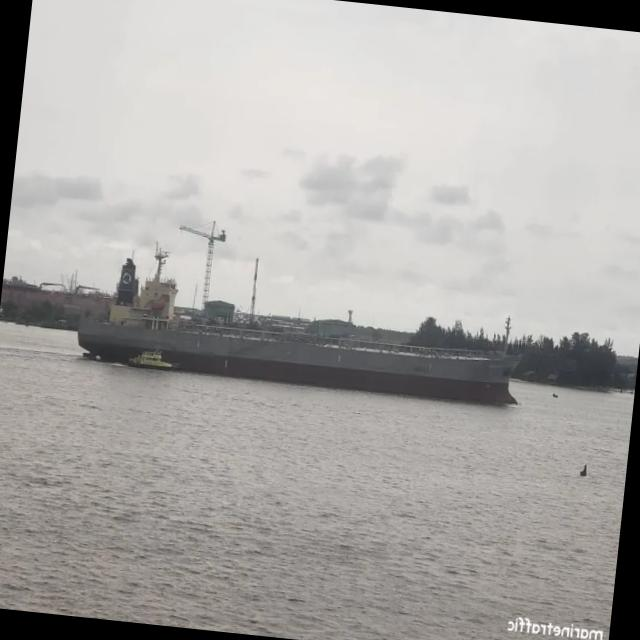Tanker: (77, 260, 514, 404)
